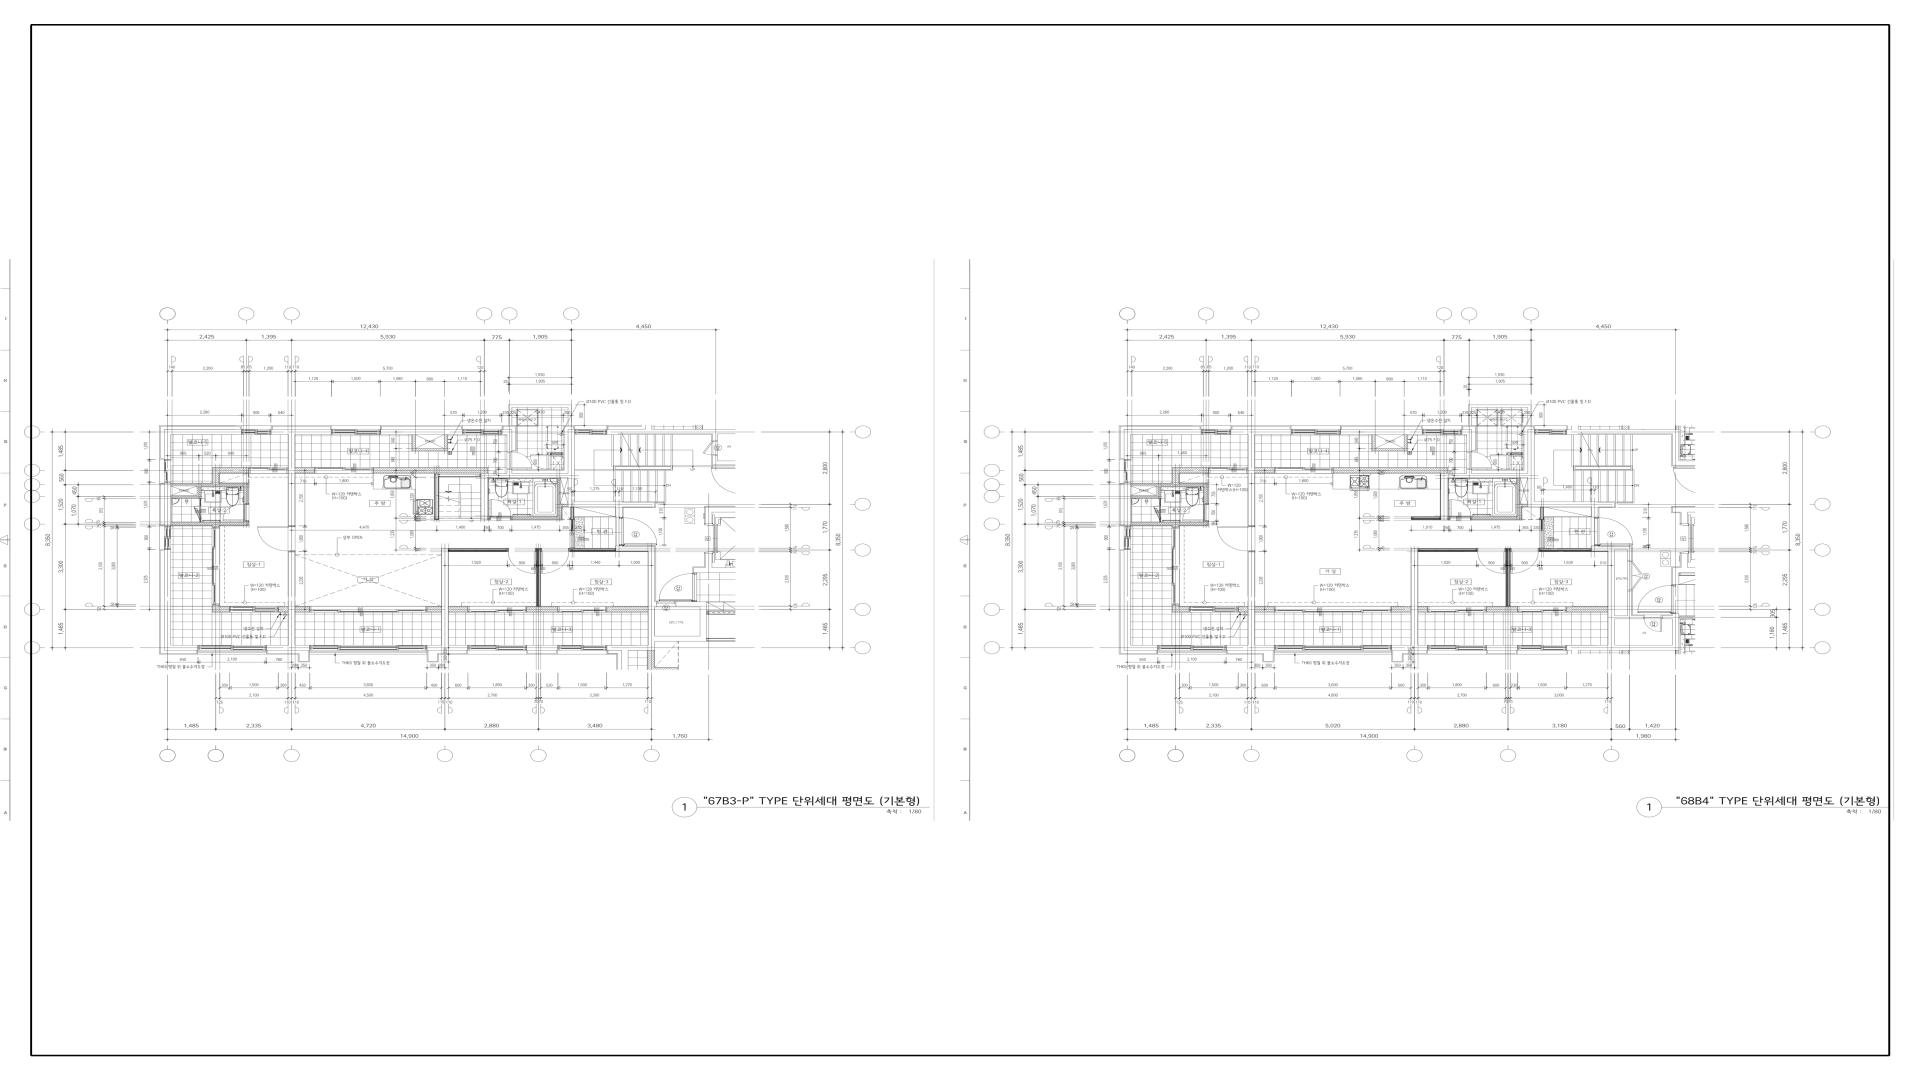door: (1594, 517, 1633, 546), (618, 517, 657, 546), (659, 572, 698, 601), (1217, 526, 1255, 553), (257, 526, 295, 553), (1477, 549, 1506, 574), (508, 549, 537, 574), (541, 549, 570, 574), (1511, 549, 1539, 574), (489, 497, 516, 520), (223, 504, 249, 522), (1449, 500, 1472, 521), (1466, 451, 1491, 469), (506, 451, 531, 469), (1183, 504, 1209, 521), (530, 454, 550, 469), (1490, 455, 1510, 469), (703, 440, 717, 456), (1539, 520, 1544, 549), (570, 520, 575, 549), (194, 506, 202, 520), (657, 601, 676, 607)
wall: (616, 546, 657, 650), (164, 550, 198, 650), (608, 430, 736, 440), (509, 405, 572, 426), (676, 601, 707, 637), (694, 554, 736, 574), (1124, 550, 1131, 650), (1411, 549, 1419, 645), (1333, 467, 1448, 473), (1607, 551, 1615, 645), (1247, 553, 1255, 645), (287, 553, 295, 645), (1247, 435, 1255, 526), (442, 549, 448, 645), (567, 430, 575, 508), (373, 468, 488, 473), (289, 435, 295, 526), (212, 468, 249, 484), (1567, 430, 1671, 435), (705, 506, 736, 524), (1528, 430, 1535, 506), (1340, 430, 1423, 435), (381, 430, 463, 435), (575, 502, 655, 508), (1124, 430, 1201, 435), (171, 430, 241, 435), (1124, 483, 1131, 526), (1441, 473, 1528, 477), (164, 483, 171, 526), (655, 636, 707, 642), (481, 473, 567, 477), (1230, 430, 1291, 435), (1535, 502, 1615, 506), (272, 430, 331, 435), (1130, 522, 1208, 526), (1130, 483, 1208, 487), (1506, 549, 1511, 607), (1441, 477, 1448, 521), (481, 477, 488, 520), (1567, 607, 1607, 613), (1567, 645, 1615, 650), (1171, 467, 1209, 473), (1226, 645, 1274, 650), (1671, 430, 1679, 462), (1418, 549, 1477, 553), (266, 645, 310, 650), (164, 430, 171, 459), (712, 456, 736, 465), (607, 645, 647, 650), (607, 607, 647, 612), (427, 645, 468, 650), (1539, 549, 1592, 553), (1486, 607, 1518, 613), (171, 484, 248, 487), (171, 522, 248, 525), (1124, 435, 1131, 460), (1391, 645, 1428, 650), (502, 430, 512, 451), (1524, 426, 1528, 473), (1472, 517, 1518, 521), (1518, 477, 1522, 521), (1486, 645, 1518, 650), (526, 607, 558, 612), (1468, 405, 1531, 407), (527, 645, 558, 650), (1672, 506, 1696, 513), (1171, 605, 1189, 613), (1131, 645, 1158, 650), (1472, 471, 1524, 473), (1391, 607, 1411, 613), (1255, 607, 1275, 613), (1592, 546, 1615, 551), (1255, 467, 1274, 473), (435, 473, 438, 520), (1411, 517, 1441, 521), (1130, 495, 1160, 498), (212, 605, 229, 612), (516, 517, 558, 520), (1466, 430, 1472, 451), (448, 607, 468, 612), (1371, 448, 1408, 451), (295, 468, 314, 473), (1672, 462, 1696, 465), (415, 448, 447, 451), (1472, 430, 1476, 451), (448, 549, 508, 550), (295, 607, 310, 612), (427, 607, 442, 612), (539, 549, 541, 607), (1171, 473, 1179, 483), (1468, 407, 1472, 426), (1418, 607, 1428, 613), (1592, 506, 1598, 517), (1204, 487, 1208, 504), (171, 496, 196, 498), (558, 479, 560, 504), (1238, 607, 1247, 613), (570, 549, 616, 550), (616, 508, 622, 517), (1371, 435, 1375, 448), (1404, 435, 1408, 448), (1540, 506, 1544, 520), (558, 506, 562, 520), (1462, 426, 1476, 430), (278, 607, 287, 612), (1528, 407, 1531, 426), (1507, 452, 1524, 455), (245, 487, 248, 504), (1615, 547, 1631, 550), (196, 487, 200, 497), (413, 435, 415, 451), (1156, 487, 1160, 496), (444, 435, 447, 448), (571, 508, 574, 520), (558, 504, 567, 506), (1520, 504, 1528, 506), (1466, 469, 1472, 473), (199, 498, 202, 506), (506, 469, 512, 473), (1462, 430, 1466, 435), (1528, 426, 1534, 430), (212, 525, 219, 527), (1171, 526, 1179, 527), (1159, 498, 1160, 506), (199, 520, 202, 522), (1204, 521, 1208, 522), (1448, 517, 1449, 520), (1204, 504, 1208, 504)
window: (1274, 607, 1391, 613), (310, 607, 427, 613), (1171, 527, 1180, 605), (1274, 645, 1391, 650), (310, 645, 427, 650), (212, 527, 220, 605), (1274, 467, 1333, 473), (314, 467, 373, 473), (1428, 607, 1486, 613), (468, 607, 526, 613), (1158, 645, 1226, 650), (198, 645, 266, 650), (1189, 607, 1238, 613), (229, 607, 278, 613), (558, 607, 607, 613), (468, 645, 527, 650), (1428, 645, 1486, 650), (331, 430, 381, 435), (249, 467, 289, 473), (1518, 607, 1567, 612), (1291, 430, 1340, 435), (1518, 645, 1567, 650), (558, 645, 607, 650), (1209, 467, 1247, 473), (1423, 430, 1462, 435), (463, 430, 502, 435), (1124, 526, 1131, 550), (164, 459, 171, 483), (164, 526, 171, 550), (1124, 460, 1131, 483), (575, 430, 608, 435), (1535, 430, 1567, 435), (1201, 430, 1232, 435), (241, 430, 272, 435)
